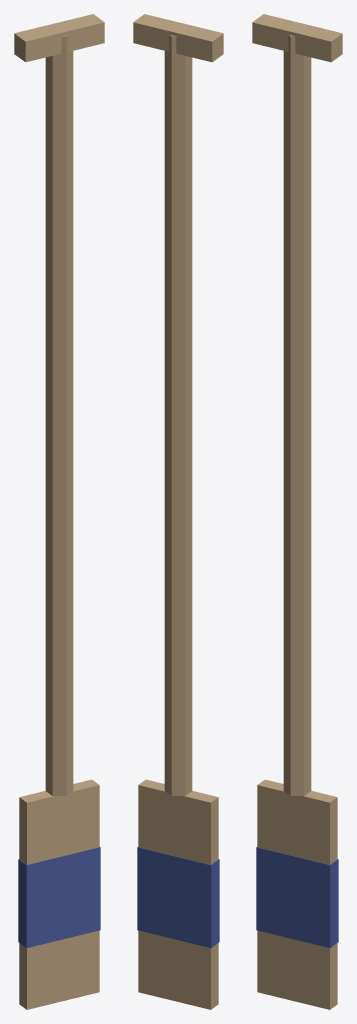
The model's file is prop-stirring-paddle-dy1.fbx.
3 renders of one model, left to right at view 1: azimuth 30°, elevation 25°; view 2: azimuth 150°, elevation 25°; view 3: azimuth 330°, elevation 25°, orthographic.
Visible parts, largest first — view 1: prop-stirring-paddle-dy1; view 2: prop-stirring-paddle-dy1; view 3: prop-stirring-paddle-dy1.
Boxes of the visible parts, bbox=[...] form: prop-stirring-paddle-dy1: bbox=[14, 14, 104, 1009]; prop-stirring-paddle-dy1: bbox=[133, 14, 223, 1009]; prop-stirring-paddle-dy1: bbox=[252, 14, 342, 1009].
Bounding box in the file's own units: 12 × 140 × 3.6.
